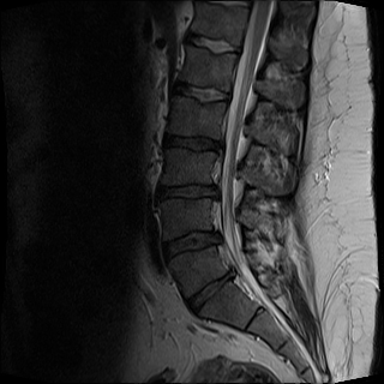Degenerative Disc Disease (DDD): (186, 261, 242, 316)
Lumbar Disc Bulge (LDB): (179, 263, 241, 319), (155, 225, 232, 269), (145, 179, 226, 203), (159, 131, 228, 155)
Normal IVD: (178, 30, 246, 62), (166, 78, 234, 105)
Spinal Stenosis (SS): (208, 221, 226, 251), (212, 130, 229, 157), (223, 261, 241, 285), (209, 178, 225, 204)
